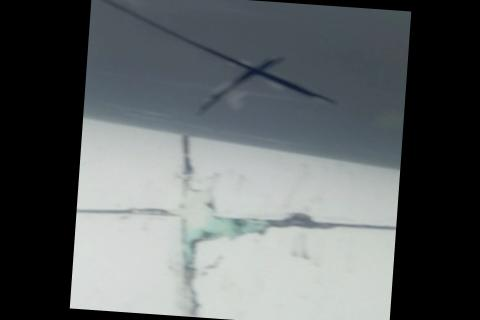keretakan: (83, 0, 345, 126)
